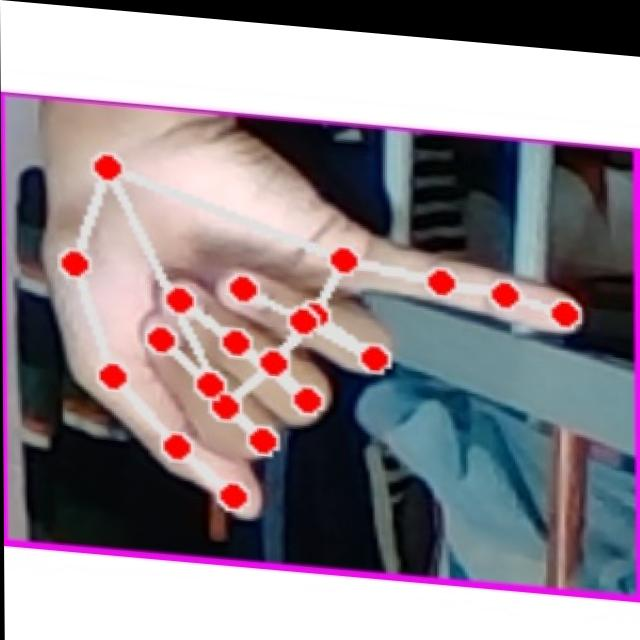J: (33, 111, 599, 559)
